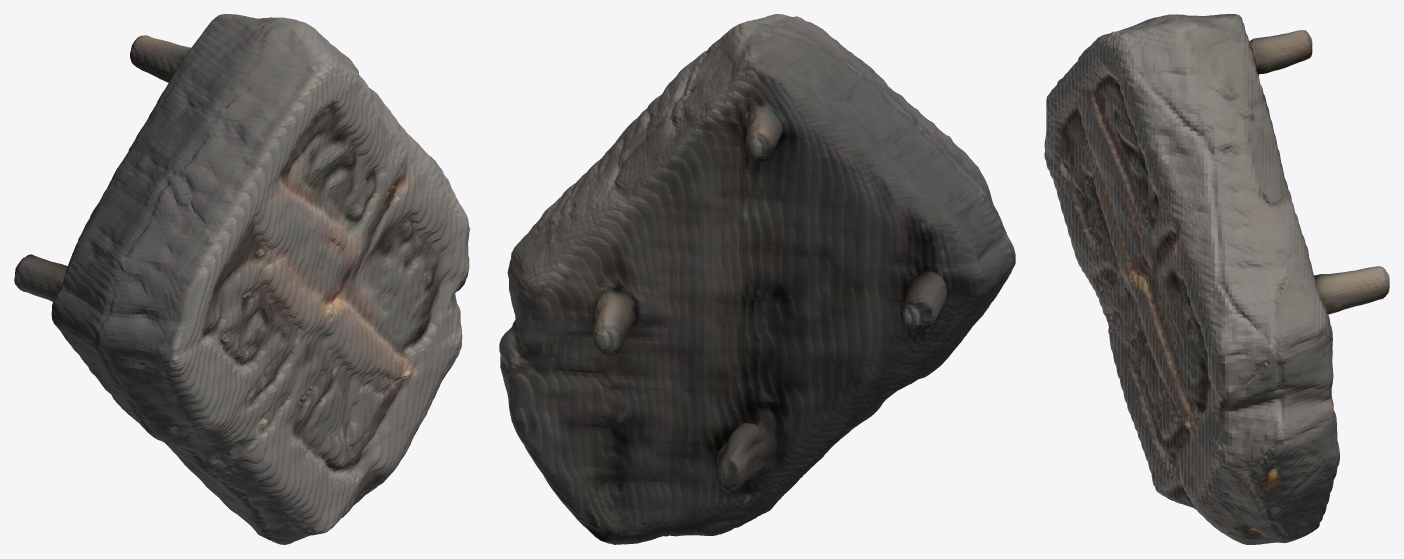
The model's file is enemy_slab_triposr.glb.
3 renders of one model, left to right at view 1: azimuth 30°, elevation 25°; view 2: azimuth 150°, elevation 25°; view 3: azimuth 270°, elevation 25°, orthographic. The views are drawn at different scales.
Parts seen in each view (by area): view 1: geometry_0; view 2: geometry_0; view 3: geometry_0.
Boxes of the visible parts, box(x1,y1,x2,y2) form: geometry_0: box(14, 14, 470, 544); geometry_0: box(499, 14, 1015, 544); geometry_0: box(1044, 14, 1389, 544).
Bounding box in the file's own units: 0.9289 × 1.04 × 0.6718.
